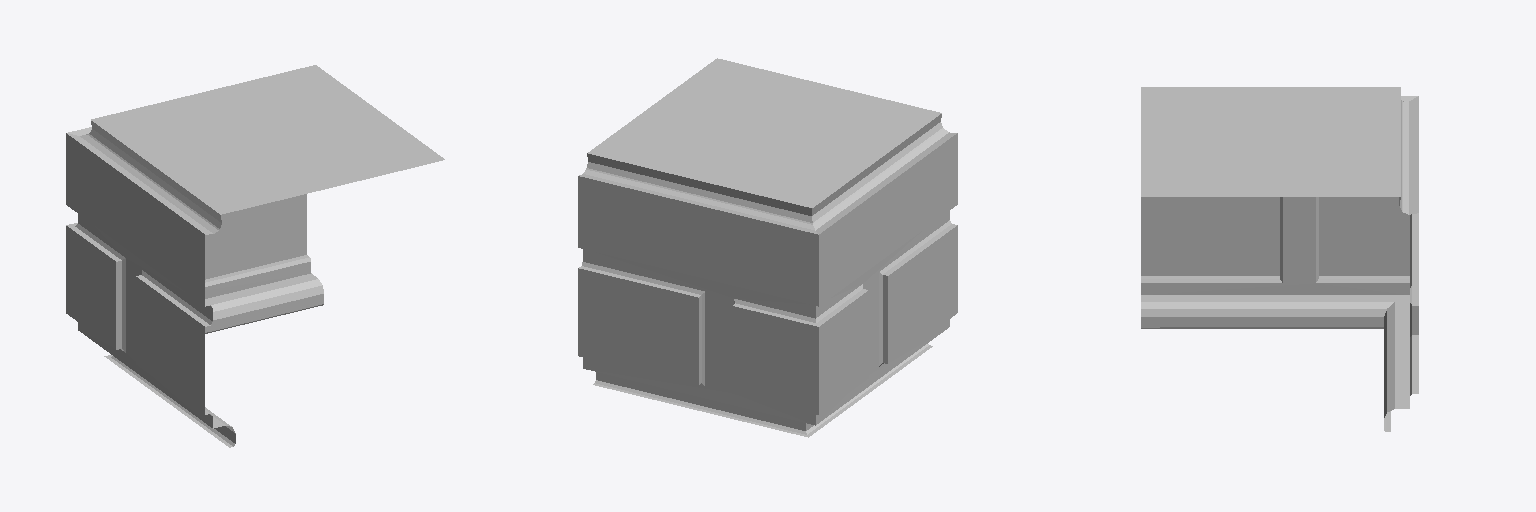
The model's file is mansion1_ceilingwall_concave.obj.
3 renders of one model, left to right at view 1: azimuth 30°, elevation 25°; view 2: azimuth 150°, elevation 25°; view 3: azimuth 270°, elevation 25°, orthographic.
Parts seen in each view (by area): view 1: corner_concave_short; view 2: corner_concave_short; view 3: corner_concave_short.
Part boxes in pixels (x1,y1,x2,y2): corner_concave_short: (66,65,444,447); corner_concave_short: (578,58,957,437); corner_concave_short: (1141,87,1418,431).
Bounding box in the file's own units: 2 × 1.87 × 2.